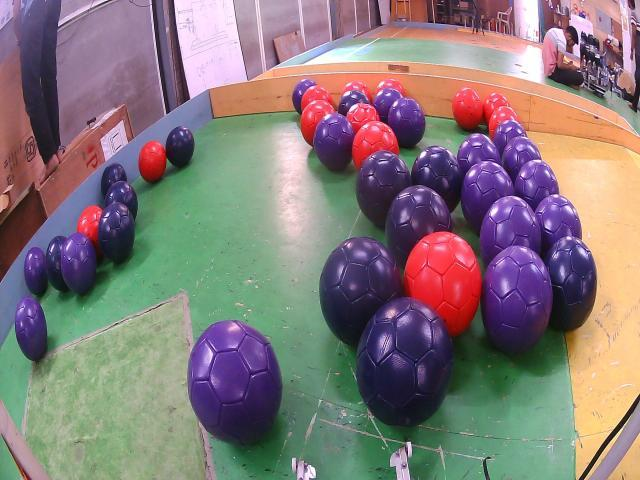jambhalya: (188, 320, 282, 445), (481, 245, 552, 355), (480, 195, 541, 267), (461, 162, 514, 234), (535, 195, 582, 258), (312, 112, 355, 170), (514, 160, 559, 210), (61, 232, 96, 294), (15, 297, 48, 362), (388, 97, 426, 148), (458, 133, 501, 178), (501, 137, 541, 183), (492, 120, 528, 157), (24, 247, 48, 296), (372, 87, 402, 123), (292, 78, 316, 113)
kaalyya: (356, 297, 454, 426), (319, 237, 402, 345), (385, 185, 452, 268), (545, 237, 598, 332), (356, 150, 411, 227), (411, 145, 462, 212), (98, 202, 135, 263), (45, 235, 68, 292), (105, 182, 138, 220), (165, 127, 195, 167), (101, 163, 128, 198), (338, 90, 370, 116)
